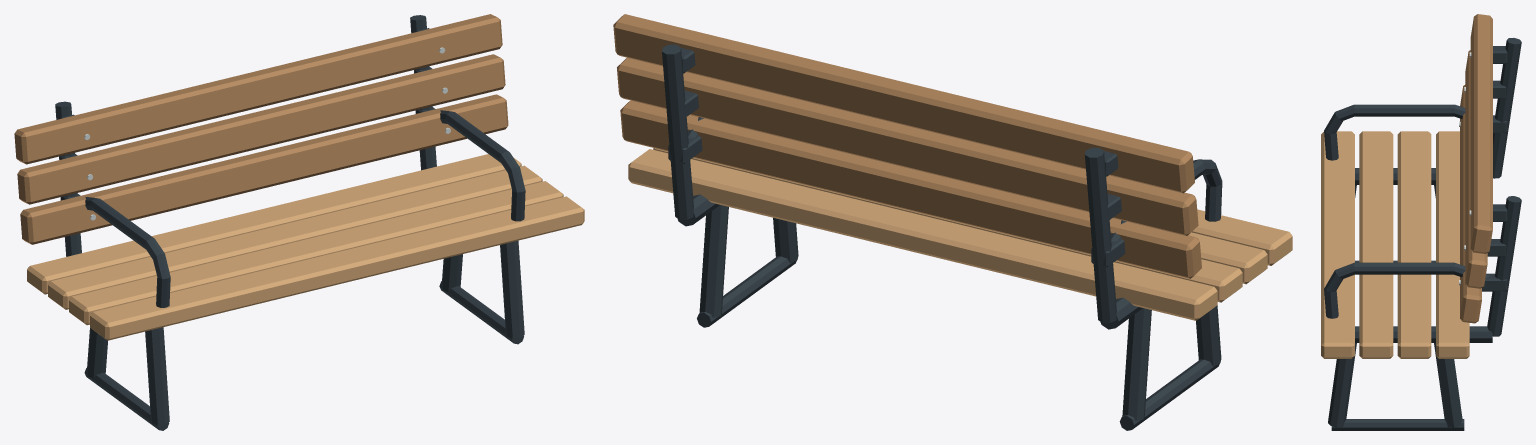
Rendered from Bench_Timber_Slat.glb.
The picture shows the model from 3 angles, left to right: view 1: azimuth 30°, elevation 25°; view 2: azimuth 150°, elevation 25°; view 3: azimuth 270°, elevation 25°; orthographic projection. The views are drawn at different scales.
Visible parts, largest first — view 1: Bench_Timber_Slat; view 2: Bench_Timber_Slat; view 3: Bench_Timber_Slat.
Part boxes in pixels (left/top/right/bottom): Bench_Timber_Slat: left=14, top=14, right=584, bottom=430; Bench_Timber_Slat: left=613, top=14, right=1292, bottom=430; Bench_Timber_Slat: left=1321, top=14, right=1521, bottom=430.
Bounding box in the file's own units: 1.98 × 1 × 0.7857.
